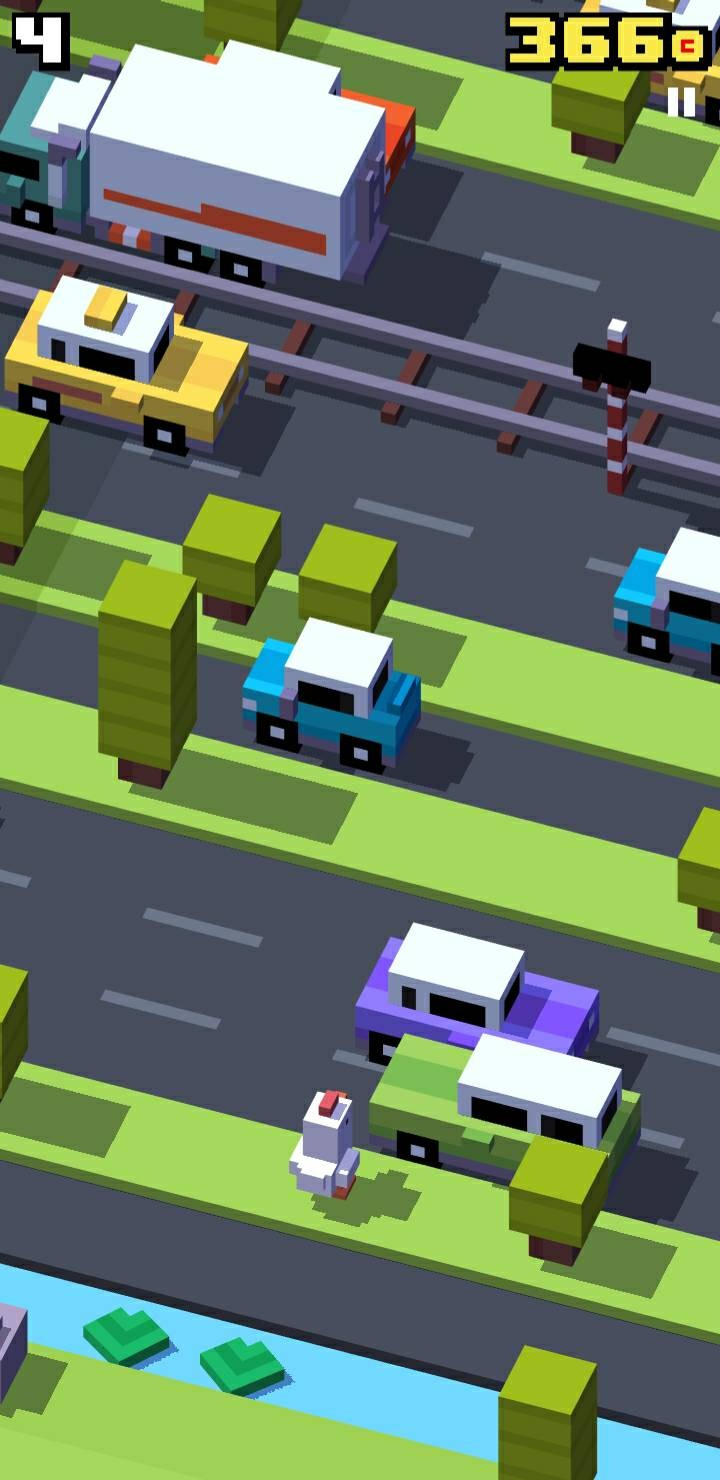car: (356, 912, 596, 1096), (361, 1034, 636, 1183), (1, 276, 239, 441), (245, 612, 421, 767), (614, 525, 720, 674), (576, 3, 720, 107)
duck: (289, 1085, 363, 1207)
lilypad: (199, 1321, 289, 1409), (83, 1298, 172, 1379)
rock: (1, 1296, 32, 1409)
tree: (96, 559, 199, 799), (496, 1341, 599, 1480), (181, 494, 287, 627), (509, 1134, 609, 1270), (549, 30, 647, 167), (299, 521, 399, 643), (1, 398, 49, 565), (196, 1, 305, 56), (678, 807, 720, 934), (1, 956, 34, 1114)
truck: (1, 38, 401, 294)
